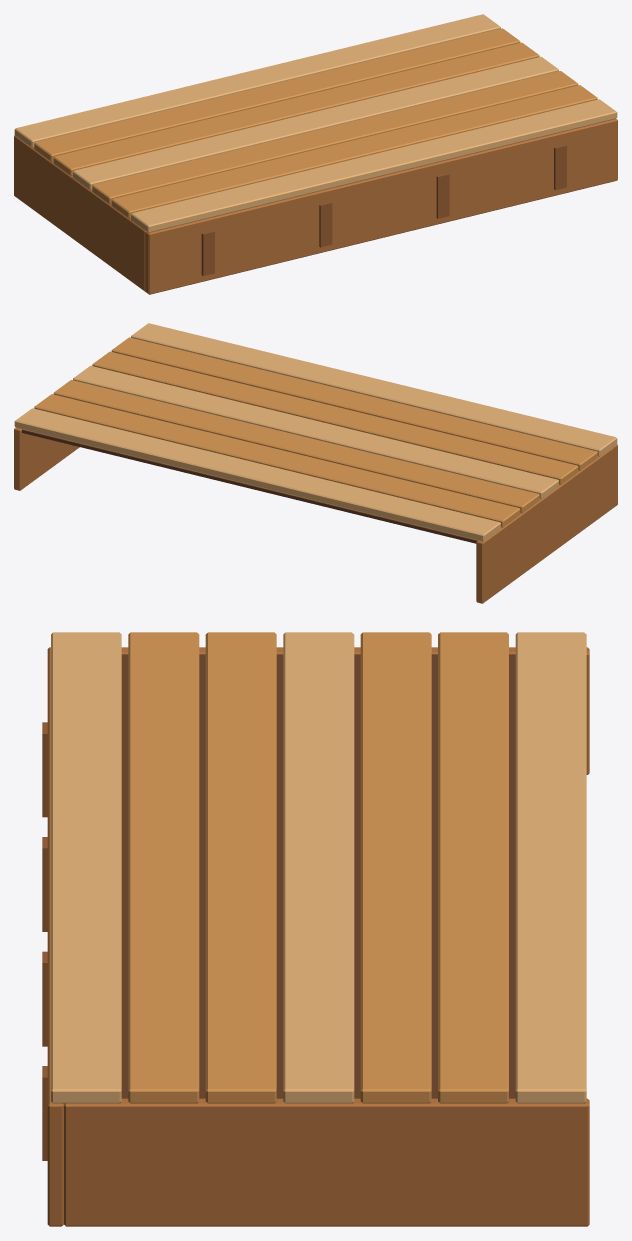
File: deck_2x1m_h30.glb
3 renders of one model, top to bottom at view 1: azimuth 30°, elevation 25°; view 2: azimuth 150°, elevation 25°; view 3: azimuth 270°, elevation 25°, orthographic. The views are drawn at different scales.
Visible parts, largest first — view 1: deck_2x1m_h30; view 2: deck_2x1m_h30; view 3: deck_2x1m_h30.
Boxes of the visible parts, x1=… form: deck_2x1m_h30: x1=14, y1=14, x2=617, y2=294; deck_2x1m_h30: x1=14, y1=323, x2=617, y2=603; deck_2x1m_h30: x1=42, y1=632, x2=589, y2=1226.
Size of the model in its own units: 2 by 0.28 by 1.01.
1 material, 1 textured.
